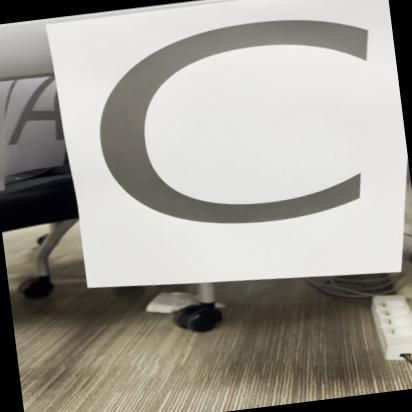seat: (54, 0, 412, 298)
